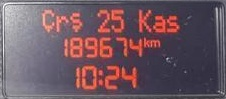0: (80, 64, 96, 89)
1: (74, 66, 81, 88), (62, 37, 68, 56)
2: (103, 64, 119, 89), (96, 8, 109, 32)
4: (120, 65, 136, 88), (128, 37, 141, 56)
5: (110, 8, 124, 32)
6: (99, 36, 112, 56)
7: (114, 36, 127, 56)
8: (68, 36, 82, 57)
9: (83, 36, 97, 57)
X: (137, 8, 151, 33), (41, 8, 54, 32), (69, 11, 83, 32), (165, 14, 179, 32), (152, 14, 165, 32), (55, 15, 68, 32), (96, 68, 104, 85), (149, 38, 160, 47), (143, 36, 149, 48)
